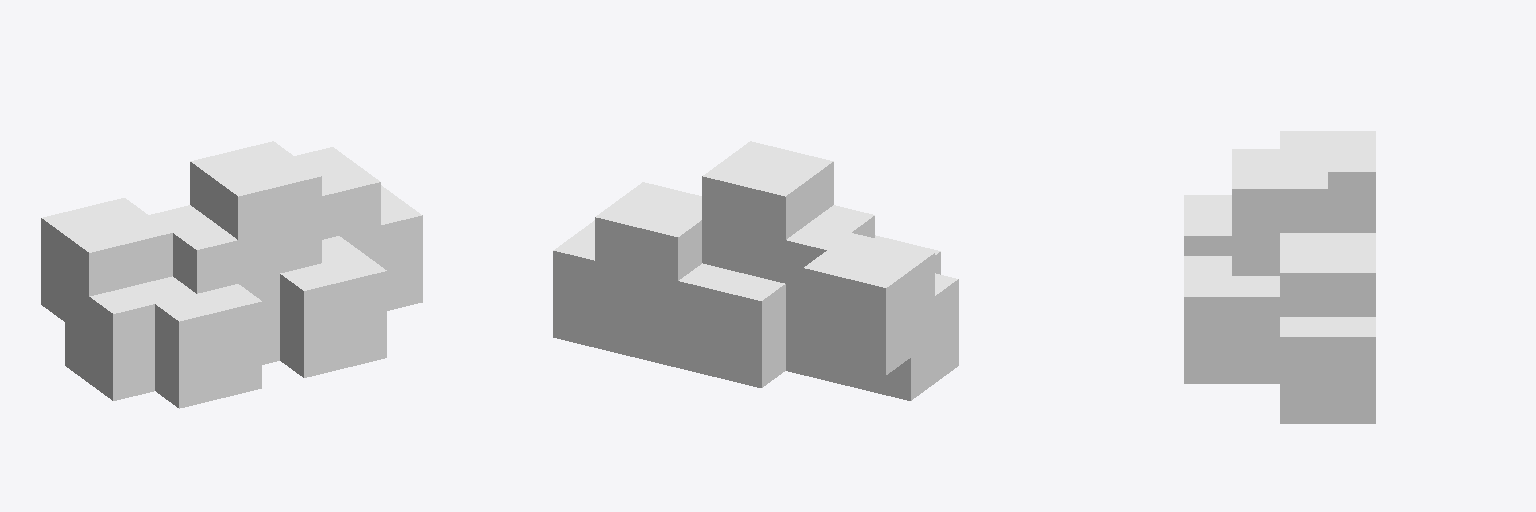
The model's file is bush_corner.obj.
The picture shows the model from 3 angles: view 1: azimuth 30°, elevation 25°; view 2: azimuth 150°, elevation 25°; view 3: azimuth 270°, elevation 25°; orthographic projection.
Size of the model in its own units: 8 by 4 by 4.